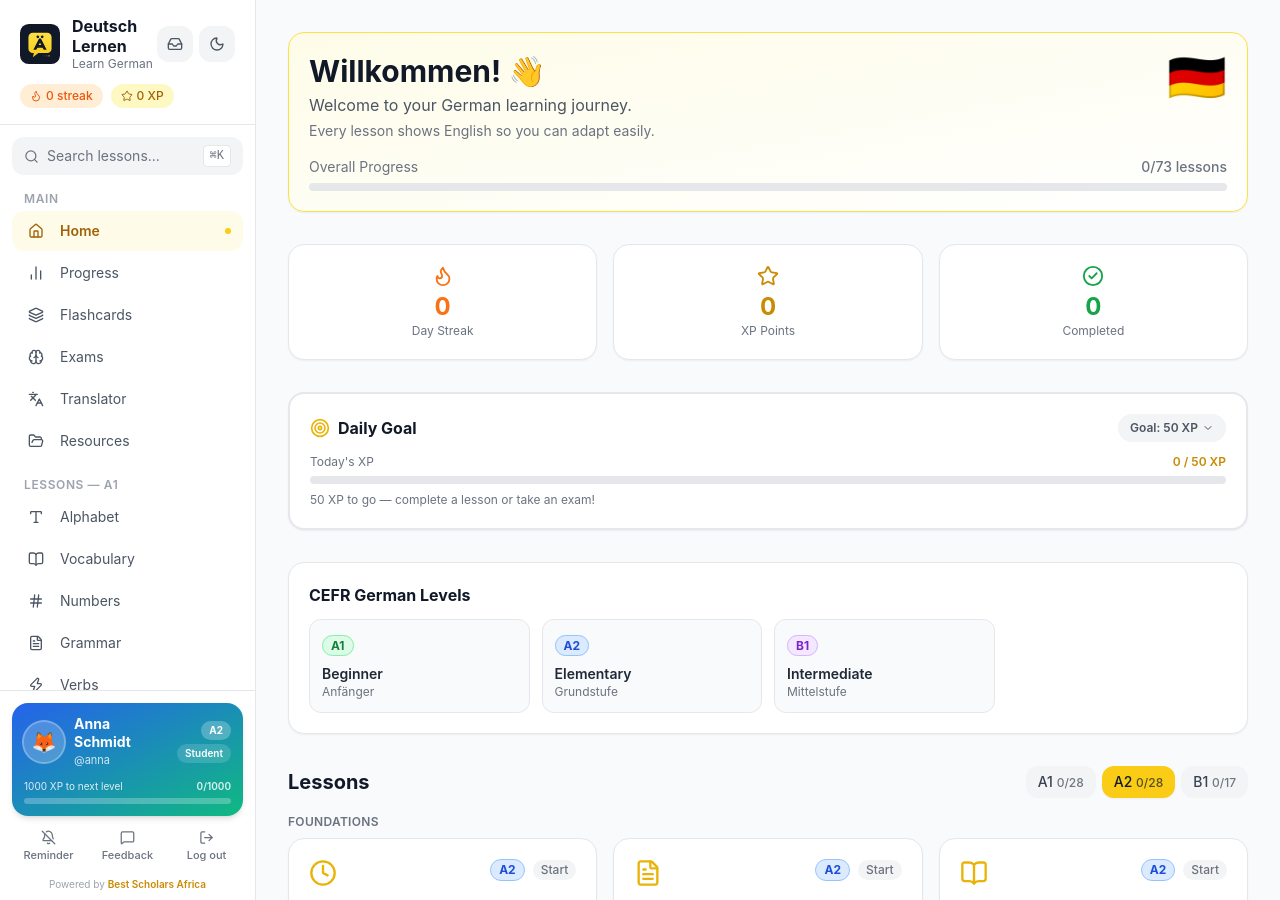
it: Escape closes the popup
Click the button with aria-label "Open my profile": (128, 759) [12, 703, 243, 816]
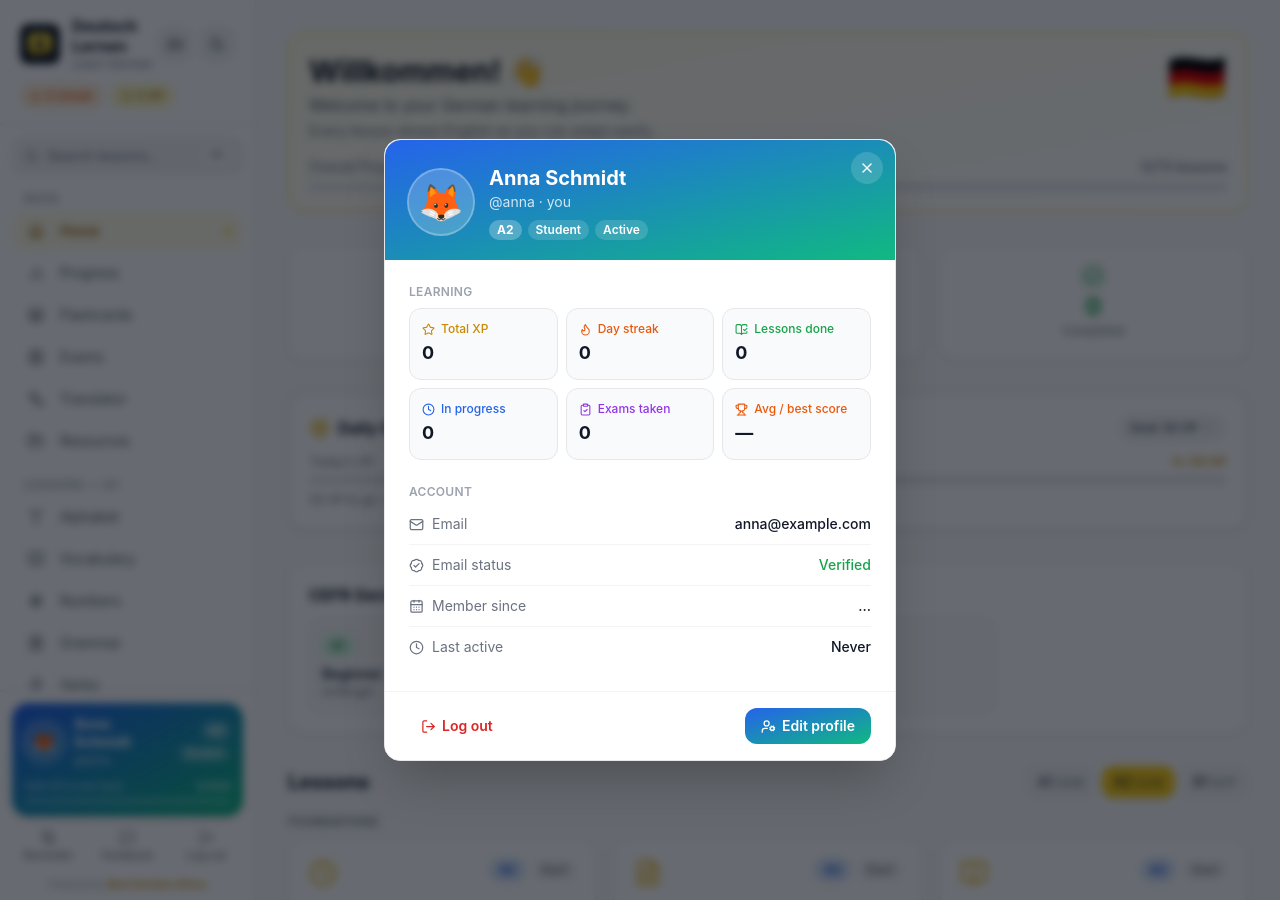
Press Escape
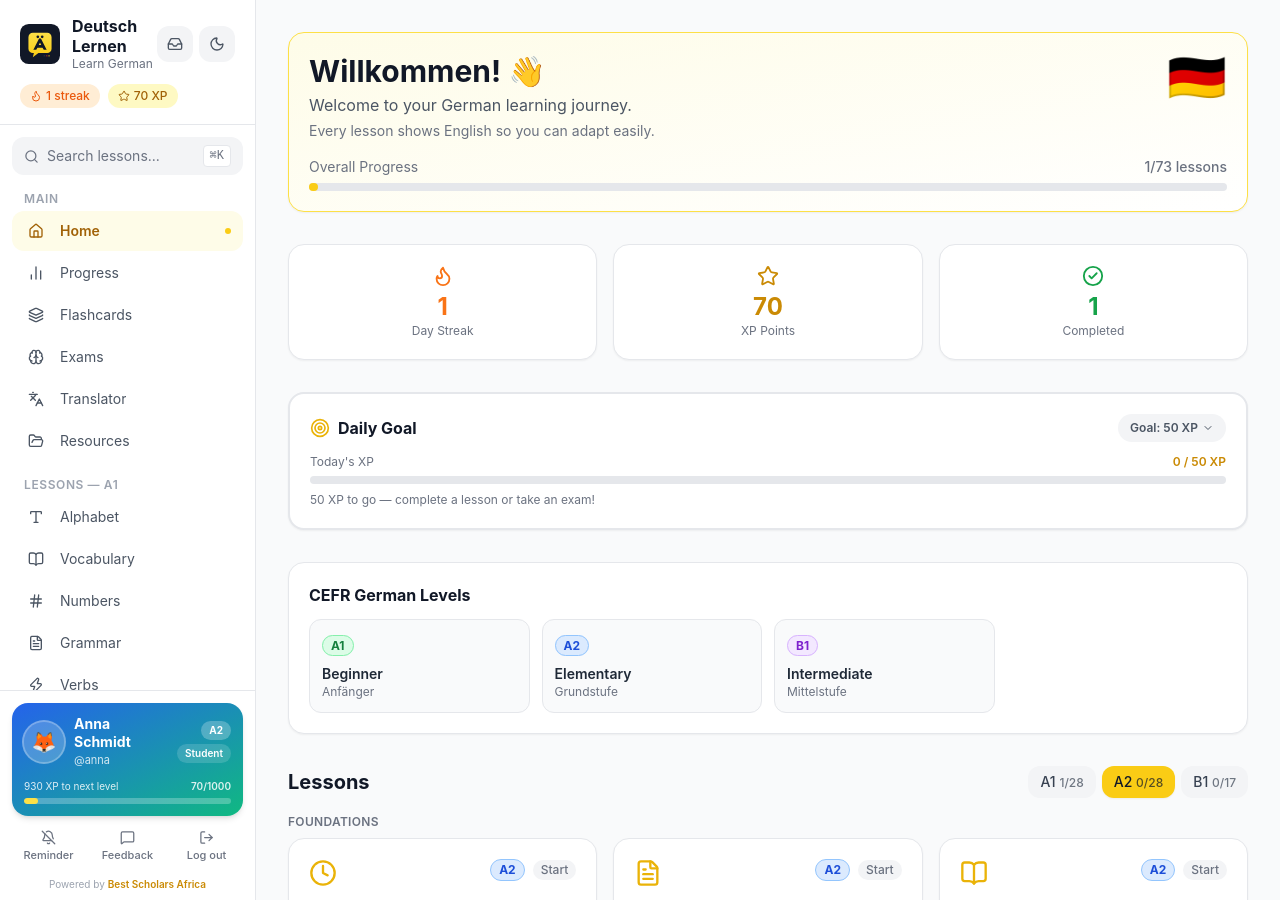
Expected: the dialog is gone
